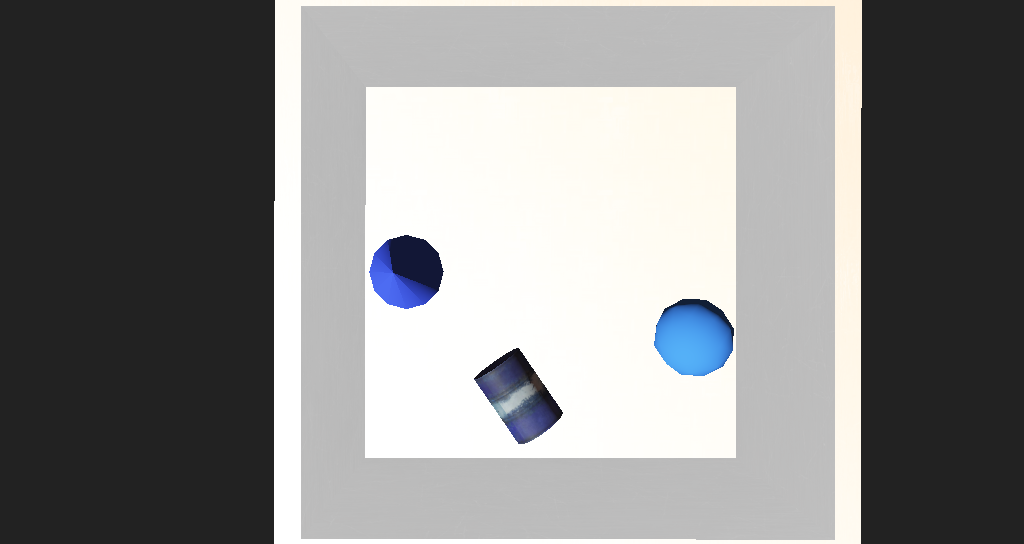cone: (441, 310, 515, 367)
cylinder: (347, 251, 421, 293)
sphere: (589, 284, 650, 327)
